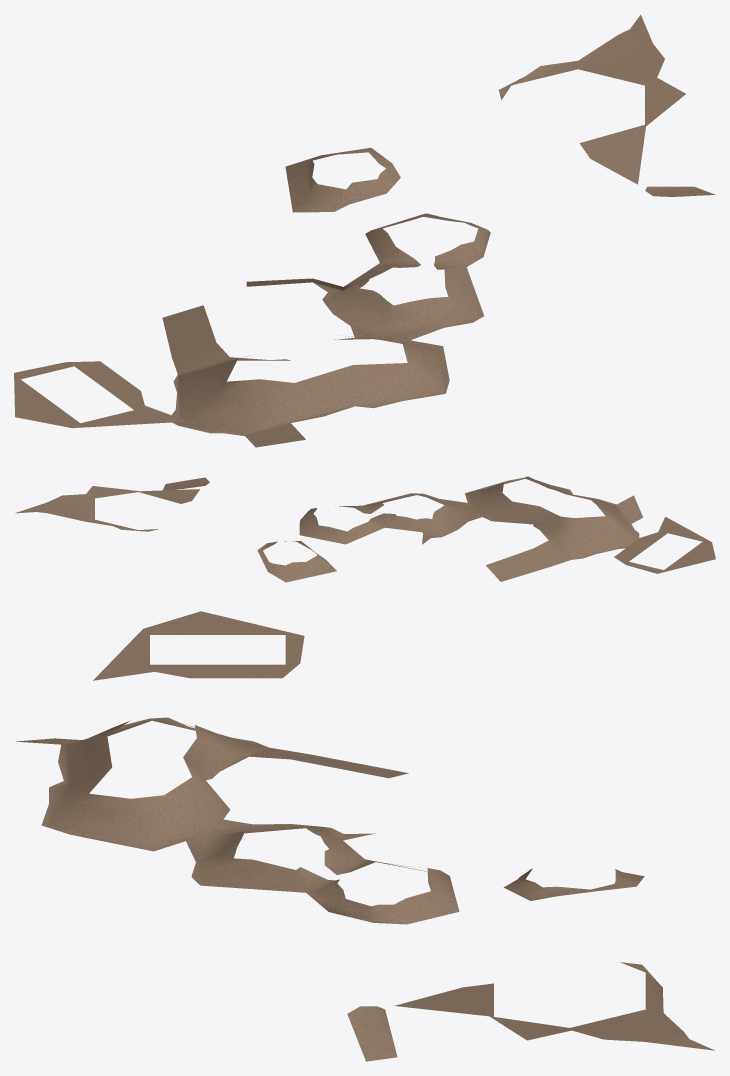
File: kd_stage_136282_2_17_bounded.glb
3 renders of one model, top to bottom at view 1: azimuth 30°, elevation 25°; view 2: azimuth 150°, elevation 25°; view 3: azimuth 270°, elevation 25°, orthographic. The views are drawn at different scales.
Visible parts, largest first — view 1: kd_stage_136282_2_17_bounded; view 2: kd_stage_136282_2_17_bounded; view 3: kd_stage_136282_2_17_bounded.
Boxes of the visible parts, x1,y1,x2,y2 form: kd_stage_136282_2_17_bounded: (14,14,715,447); kd_stage_136282_2_17_bounded: (15,476,715,582); kd_stage_136282_2_17_bounded: (15,611,714,1061).
Bounding box in the file's own units: 137 × 8.37 × 85.84.
Materials: 1 (1 with a texture image).
